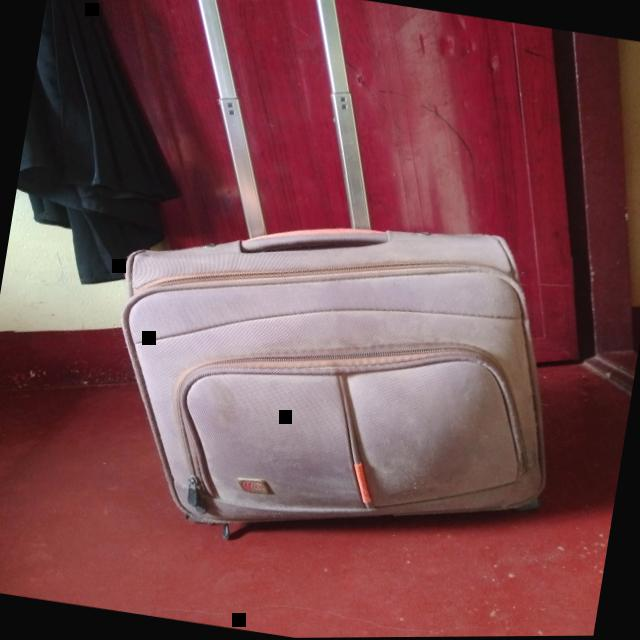luggage: (79, 171, 597, 588)
